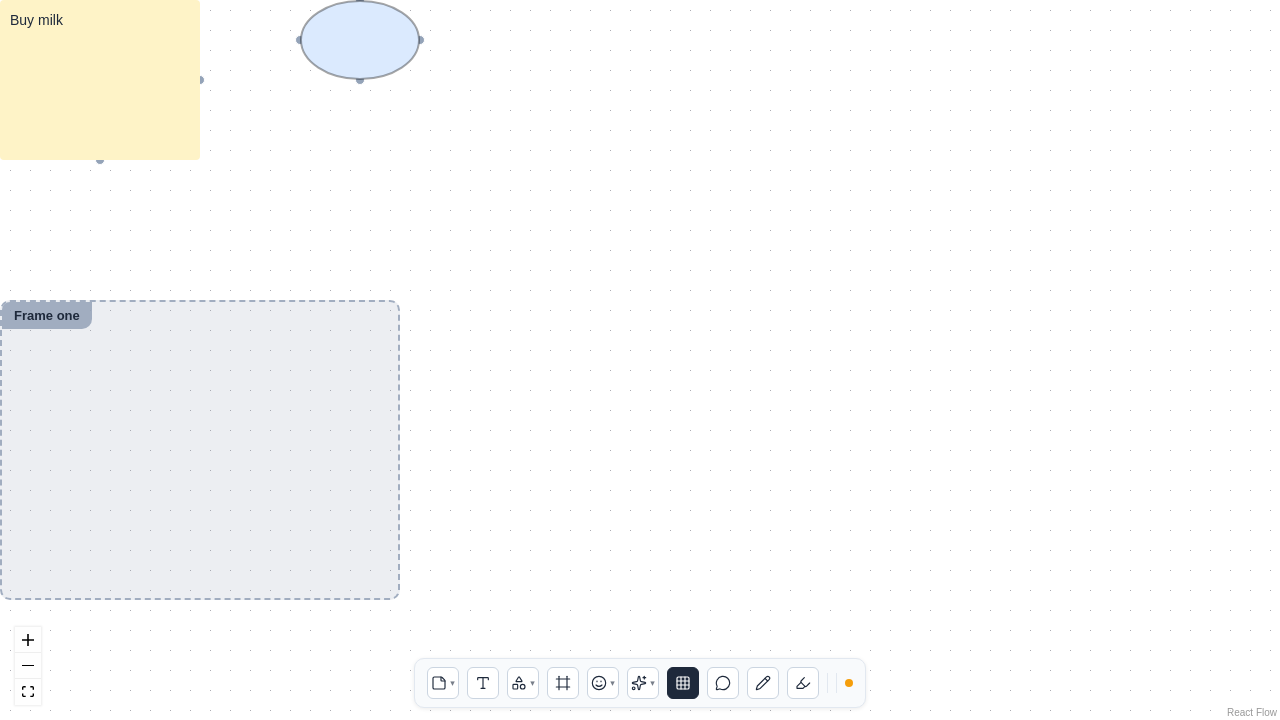
Scenario: BoardCanvas › a node with no description opens the modal empty (Add description badge)
The image size is (1280, 720).
Hover over the element with test id "base-node-rotation" showing "Buy milk" at x=100, y=80, box [0, 0, 200, 160]
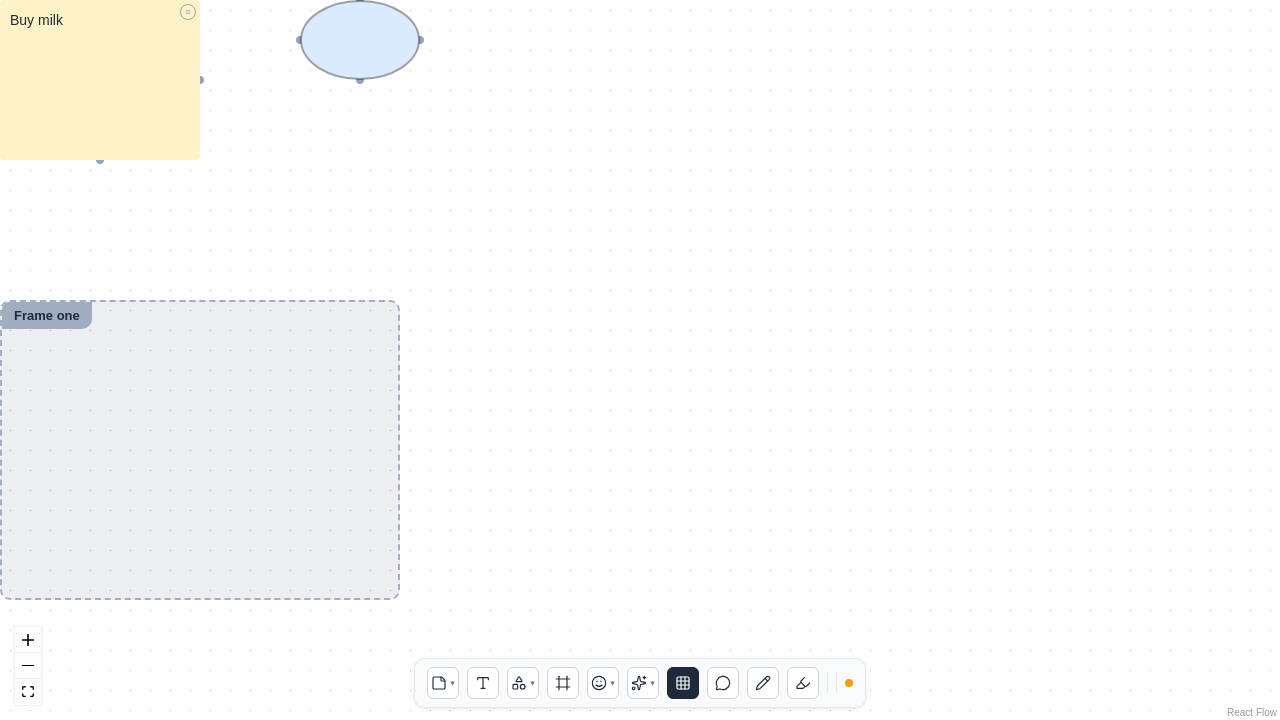
Click the button titled "Add description" at x=188, y=12, box [180, 4, 196, 20]
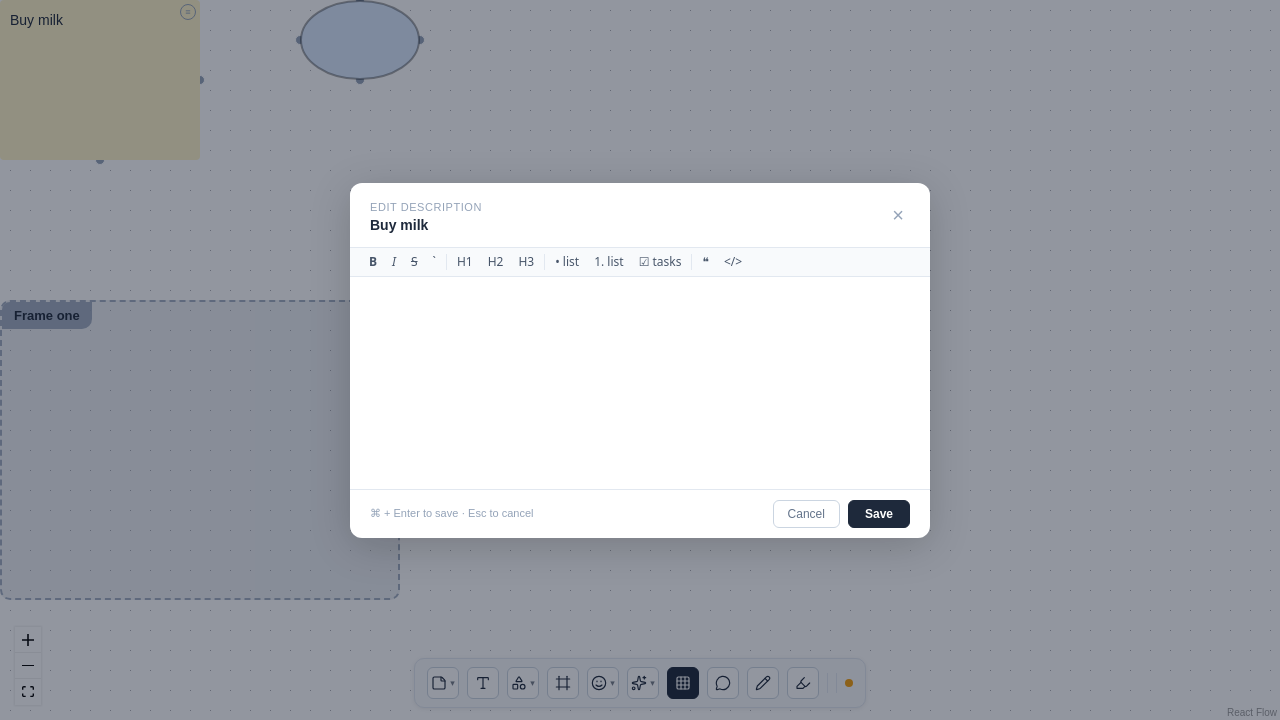
Expected: the text "Edit description" is shown, [370, 200, 482, 212]
